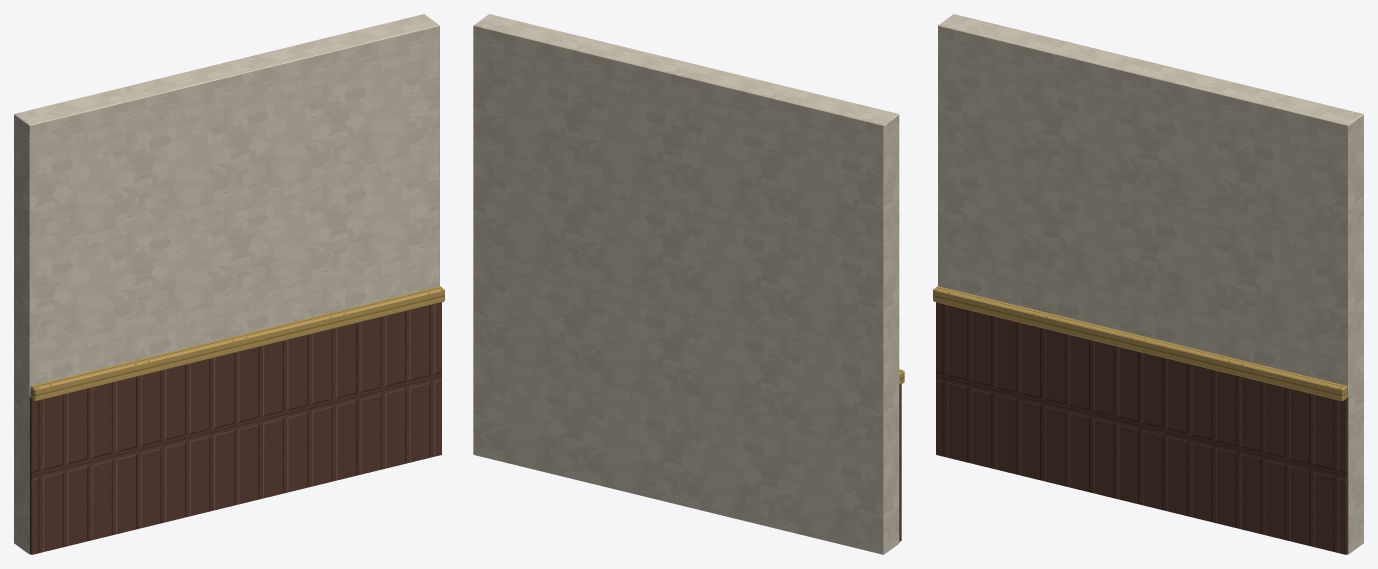
Rendered from MD_1_Wall.fbx.
The picture shows the model from 3 angles, left to right: view 1: azimuth 30°, elevation 25°; view 2: azimuth 150°, elevation 25°; view 3: azimuth 330°, elevation 25°; orthographic projection.
Visible parts, largest first — view 1: MD_1_Wall_structural_wall, MD_1_Wall_wainscot, MD_1_Wall_chair_rail; view 2: MD_1_Wall_structural_wall; view 3: MD_1_Wall_structural_wall, MD_1_Wall_wainscot, MD_1_Wall_chair_rail.
Boxes of the visible parts, <box> form: MD_1_Wall_structural_wall: <box>14,14,439,554</box>; MD_1_Wall_wainscot: <box>29,302,441,554</box>; MD_1_Wall_chair_rail: <box>30,286,444,401</box>; MD_1_Wall_structural_wall: <box>473,14,899,554</box>; MD_1_Wall_structural_wall: <box>938,14,1363,554</box>; MD_1_Wall_wainscot: <box>936,302,1348,554</box>; MD_1_Wall_chair_rail: <box>933,286,1347,401</box>.
Bounding box in the file's own units: 3 × 3 × 0.2675.
3 materials, 3 textured.
